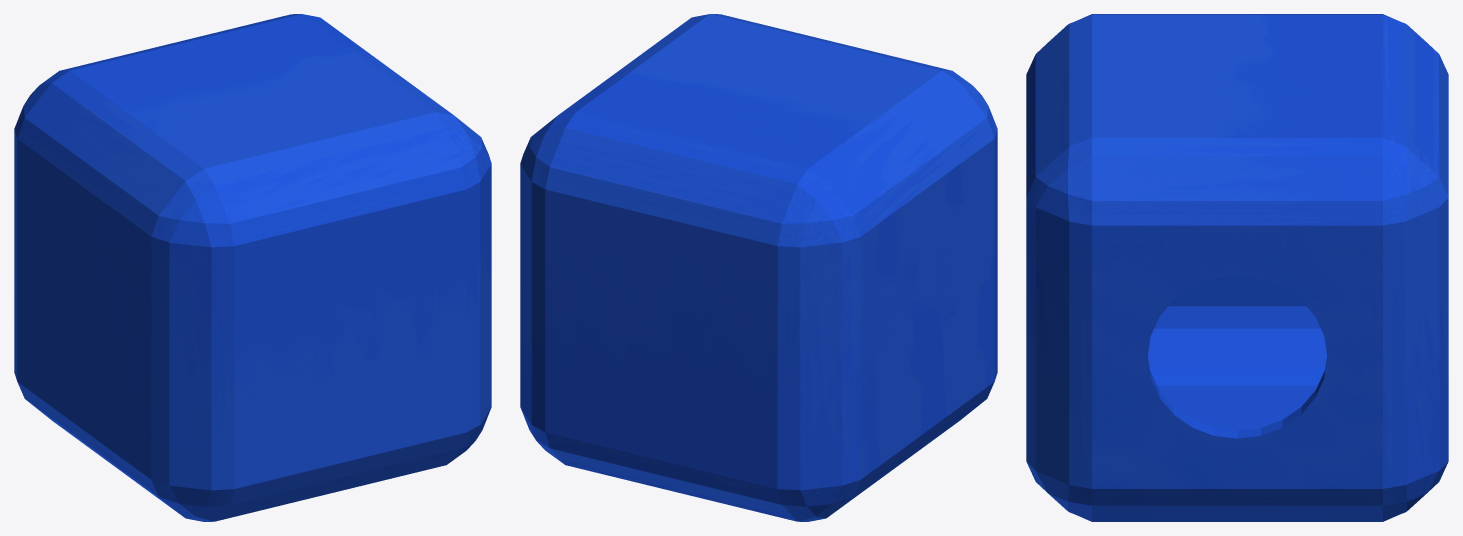
The model's file is io-Gehäuse-test - Copy.fbx.
3 views of the same model, side by side, from view 1: azimuth 30°, elevation 25°; view 2: azimuth 150°, elevation 25°; view 3: azimuth 270°, elevation 25° (orthographic). The views are drawn at different scales.
Parts seen in each view (by area): view 1: Cube.001; view 2: Cube.001; view 3: Cube.001.
Part boxes in pixels (bbox=[...]): Cube.001: bbox=[14, 14, 491, 521]; Cube.001: bbox=[520, 14, 997, 521]; Cube.001: bbox=[1026, 14, 1448, 521].
Bounding box in the file's own units: 200 × 200 × 200.
